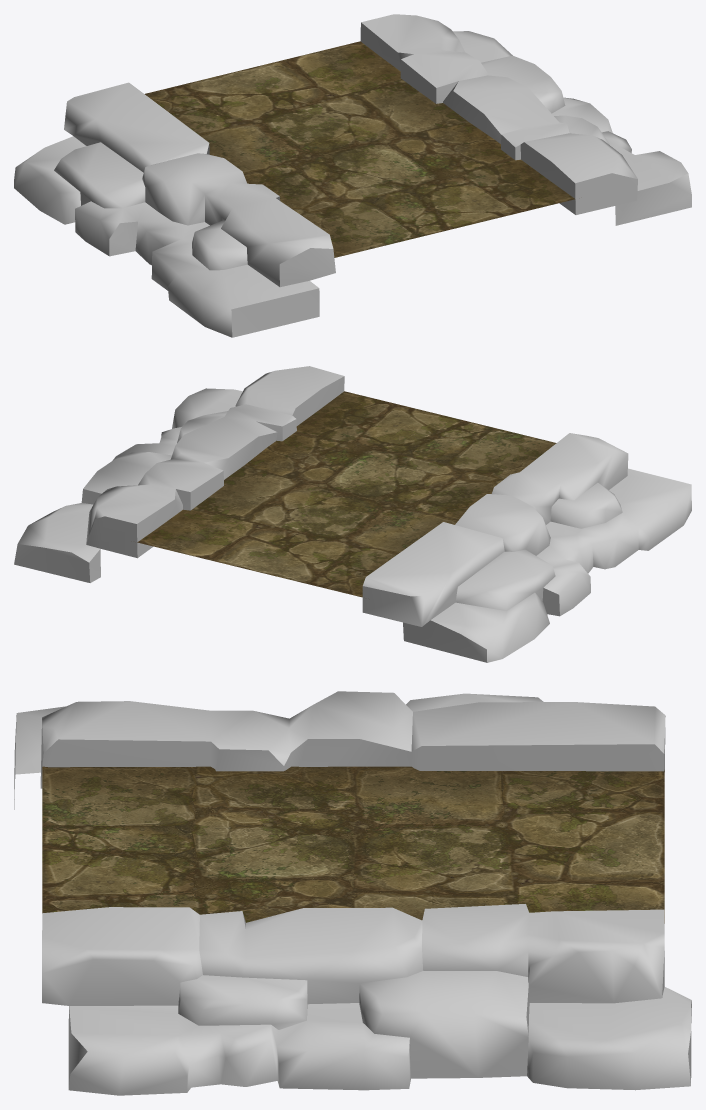
Rendered from Road_01.fbx.
3 renders of one model, top to bottom at view 1: azimuth 30°, elevation 25°; view 2: azimuth 150°, elevation 25°; view 3: azimuth 270°, elevation 25°, orthographic. The views are drawn at different scales.
Visible parts, largest first — view 1: Road_01_LOD0; view 2: Road_01_LOD0; view 3: Road_01_LOD0.
Boxes of the visible parts, x1,y1,x2,y2 form: Road_01_LOD0: (14, 14, 691, 337); Road_01_LOD0: (14, 366, 691, 662); Road_01_LOD0: (14, 691, 691, 1095).
Size of what is drawn, in the model's own units: 4.03 by 3.27 by 0.5041.
